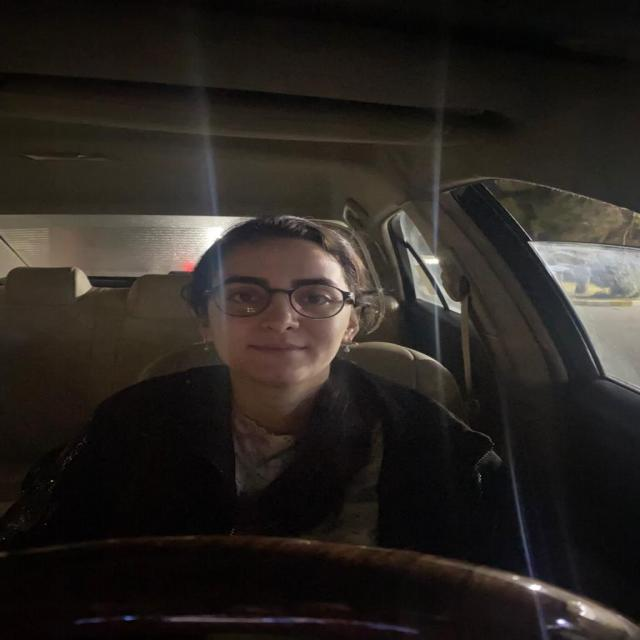person: (181, 211, 370, 388)
